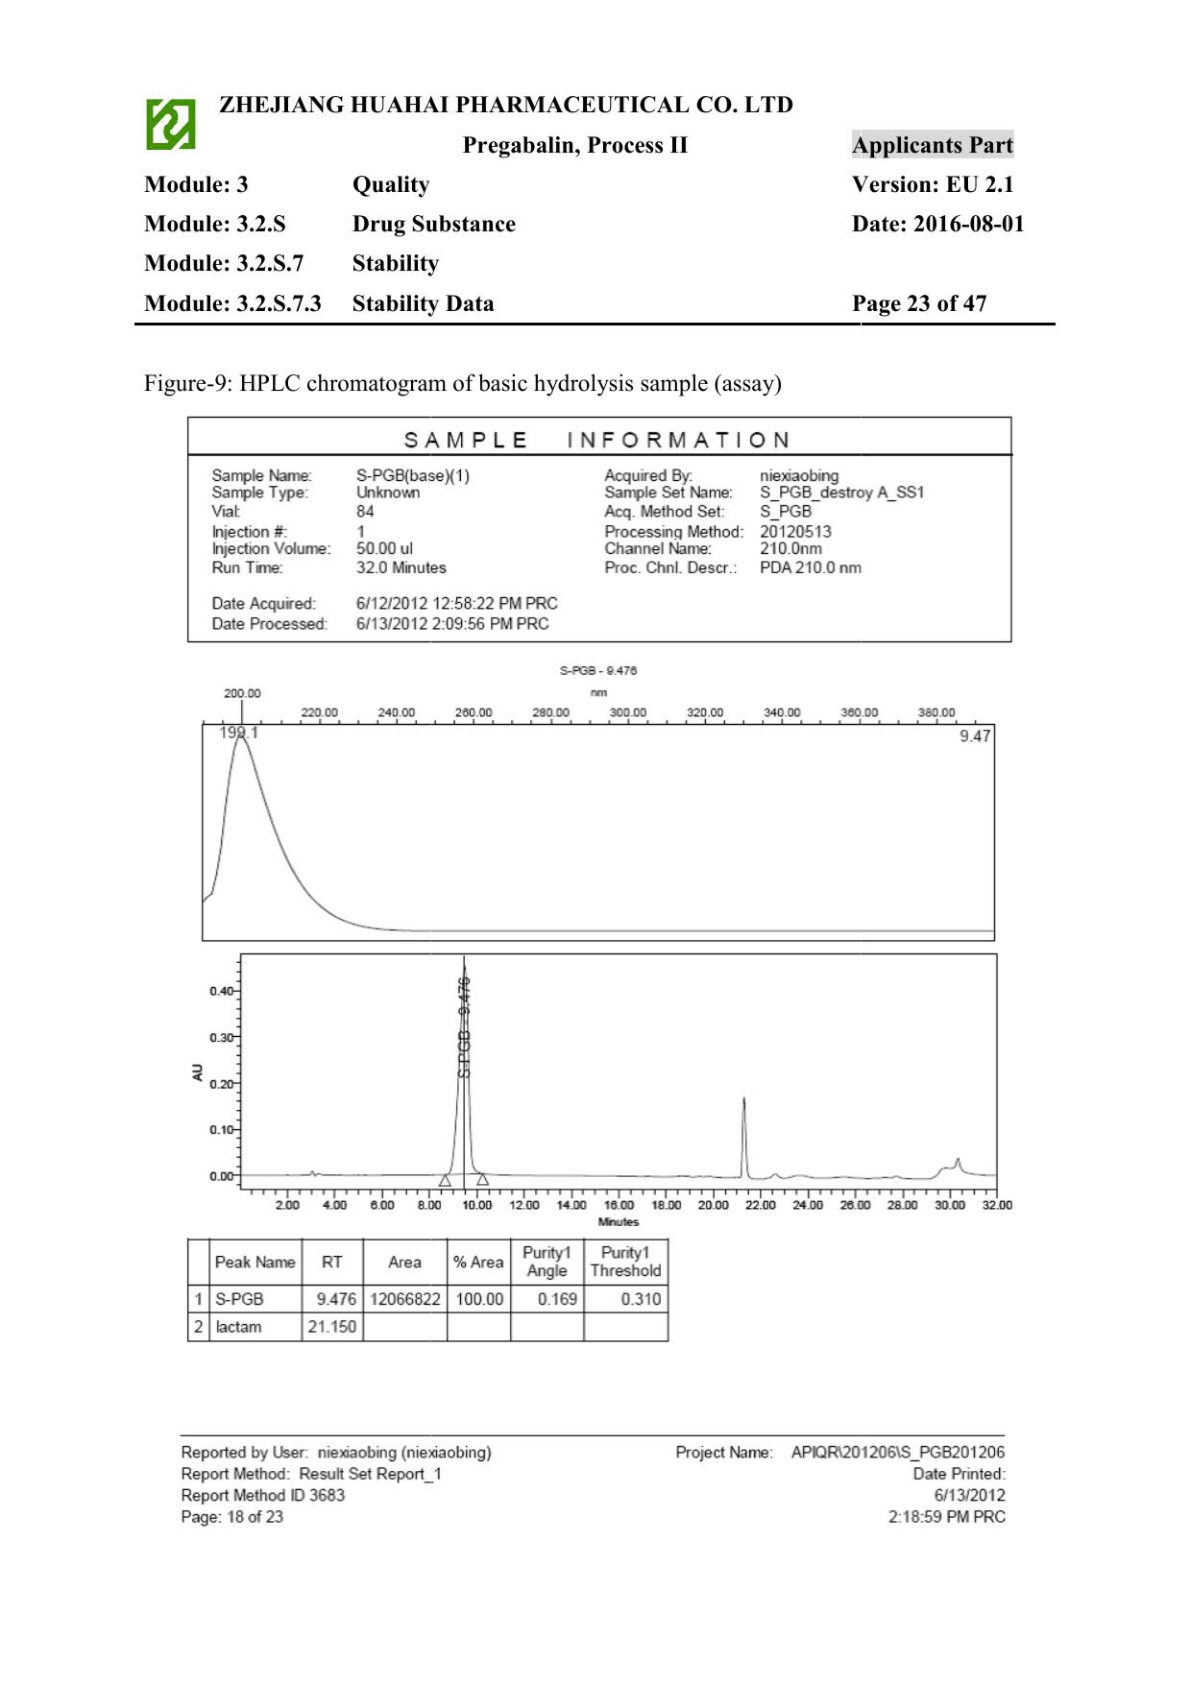full_lined: (186, 1238, 669, 1343)
partial_lined_merged_cells: (186, 416, 1013, 643)
